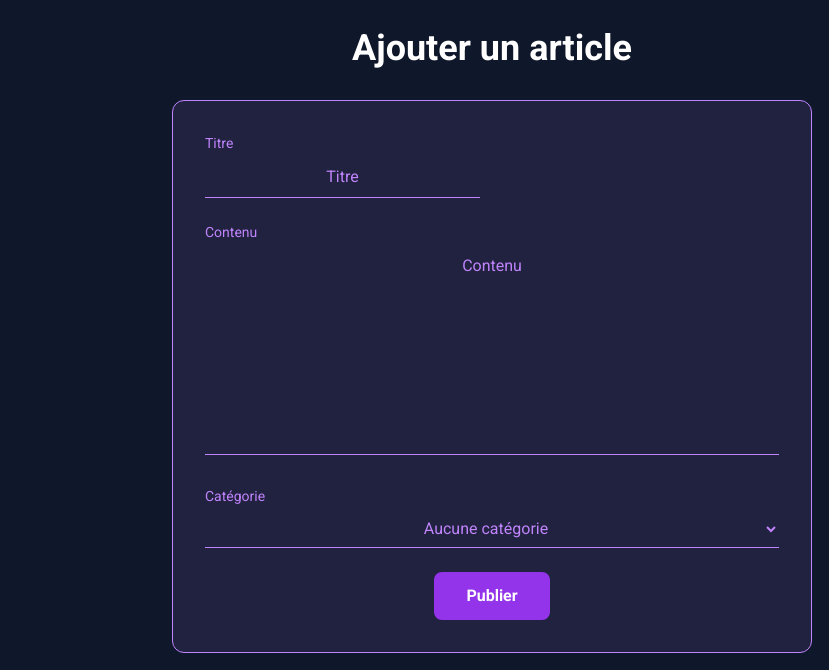
Test: AddArticle › crée l'article et l'affiche dans le blog après soumission par un membre
The image size is (829, 670).
In the field labelled "Titre": (342, 178) x1=205 y1=157 x2=480 y2=198, type "Mon nouvel article"
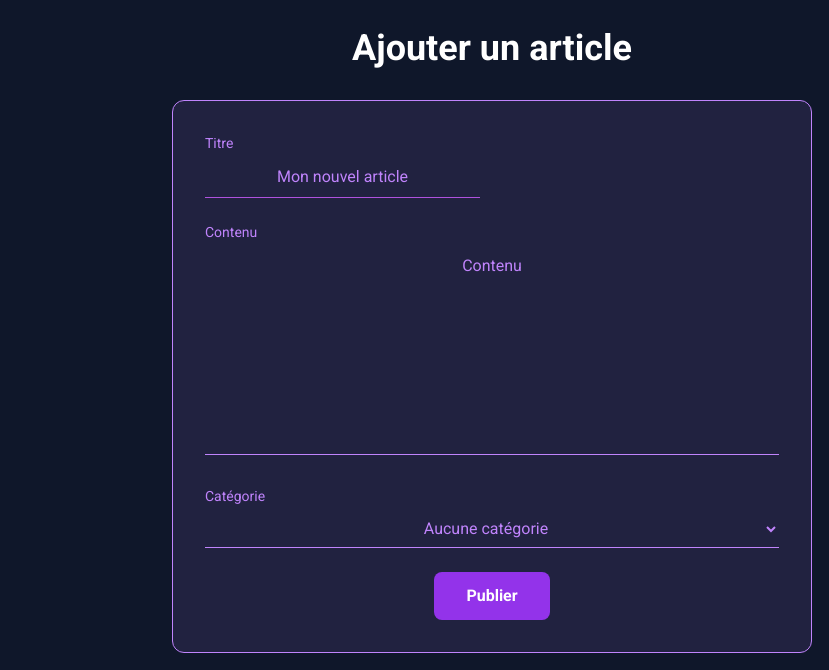
In the text box labelled "Contenu": (492, 350) x1=205 y1=246 x2=779 y2=455, type "Contenu de l'article."
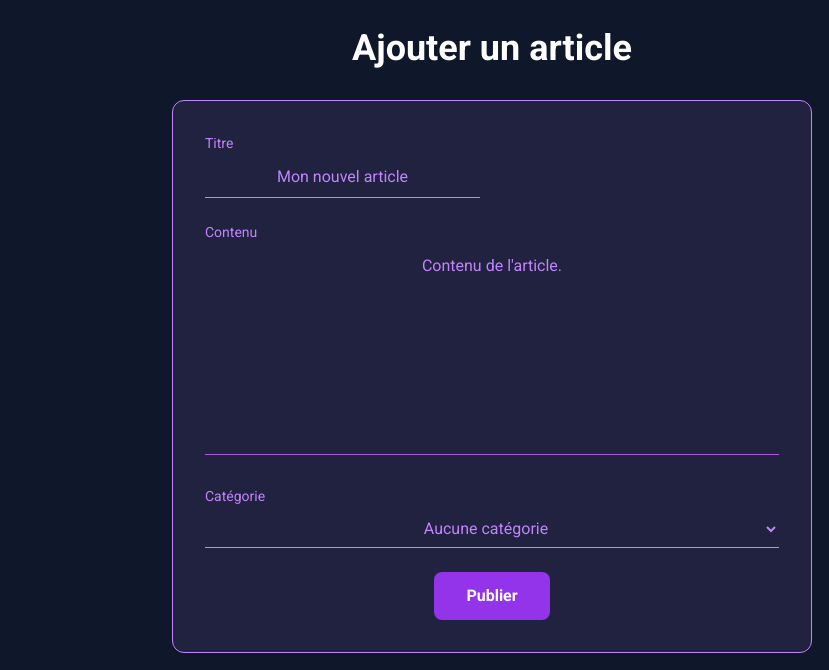
Click the button "Publier": (492, 596) x1=434 y1=572 x2=550 y2=620
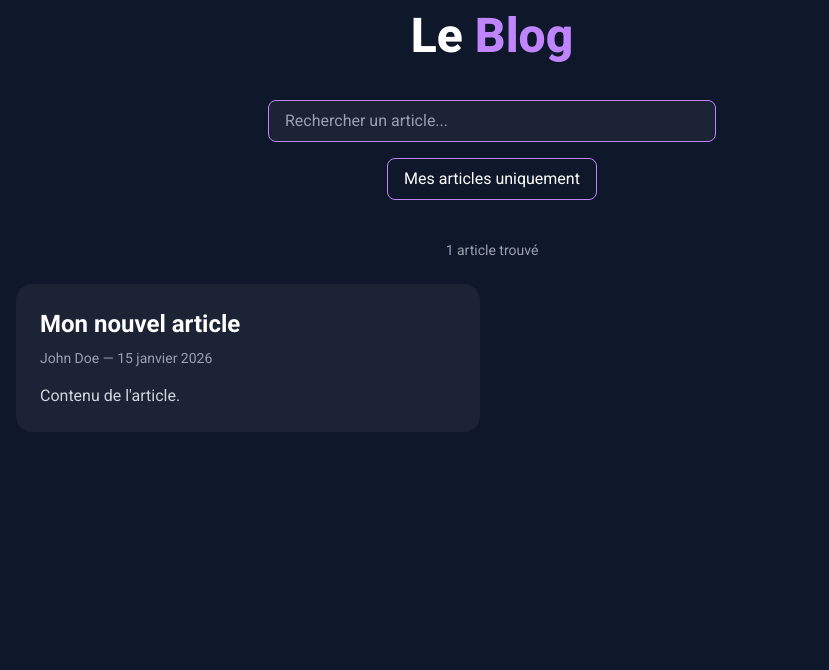
Now the heading "Mon nouvel article" is shown, box x1=40 y1=310 x2=240 y2=338
